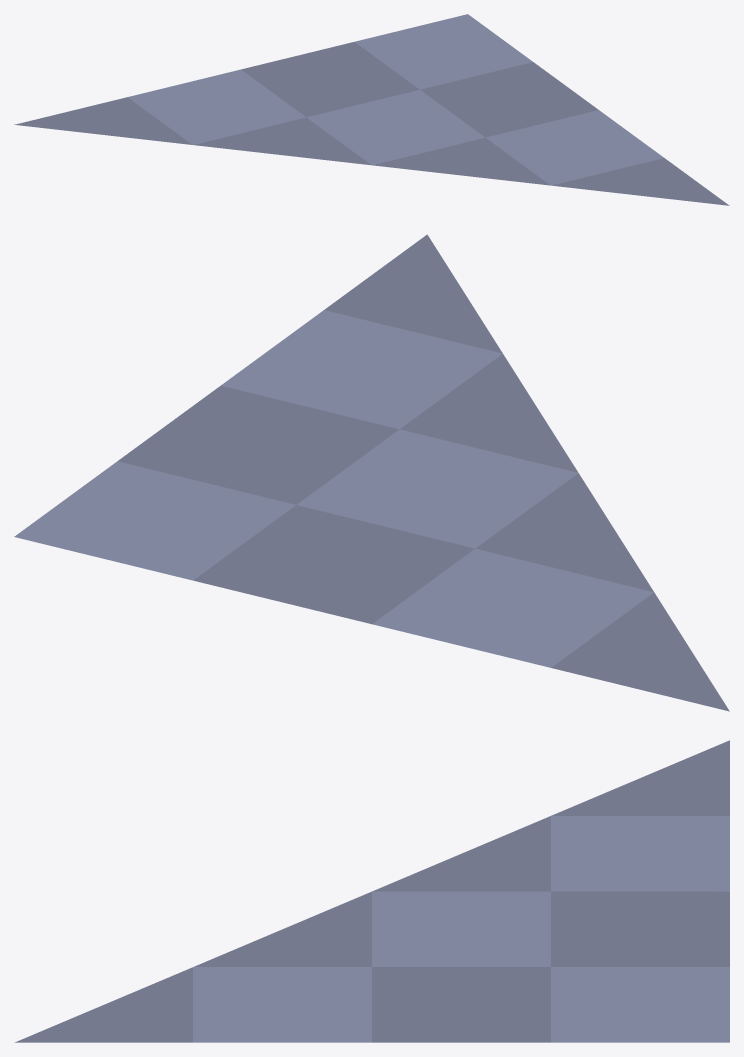
Rendered from floor-small-diagonal.fbx.
The picture shows the model from 3 angles, top to bottom: view 1: azimuth 30°, elevation 25°; view 2: azimuth 150°, elevation 25°; view 3: azimuth 270°, elevation 25°; orthographic projection. The views are drawn at different scales.
Visible parts, largest first — view 1: floor-small-diagonal; view 2: floor-small-diagonal; view 3: floor-small-diagonal.
Part boxes in pixels (box(x1,y1,x2,y2)): floor-small-diagonal: box(14, 14, 729, 205); floor-small-diagonal: box(14, 234, 729, 711); floor-small-diagonal: box(15, 740, 729, 1042).
Bounding box in the file's own units: 100 × 0 × 100.
